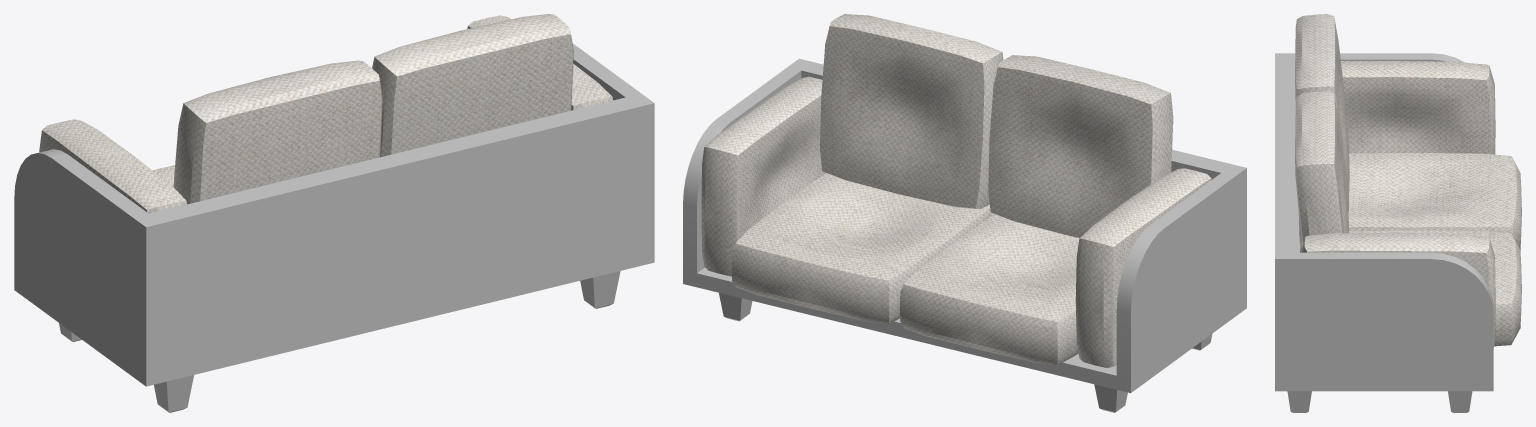
File: furniture_seating_210076.glb
The picture shows the model from 3 angles, left to right: view 1: azimuth 30°, elevation 25°; view 2: azimuth 150°, elevation 25°; view 3: azimuth 270°, elevation 25°; orthographic projection. The views are drawn at different scales.
Parts seen in each view (by area): view 1: furniture_seating_210076; view 2: furniture_seating_210076; view 3: furniture_seating_210076.
Boxes of the visible parts, bbox=[...] form: furniture_seating_210076: bbox=[14, 14, 654, 412]; furniture_seating_210076: bbox=[683, 14, 1246, 412]; furniture_seating_210076: bbox=[1275, 14, 1521, 412].
Size of the model in its own units: 1.61 by 0.8773 by 0.8179.
1 material, 1 textured.
